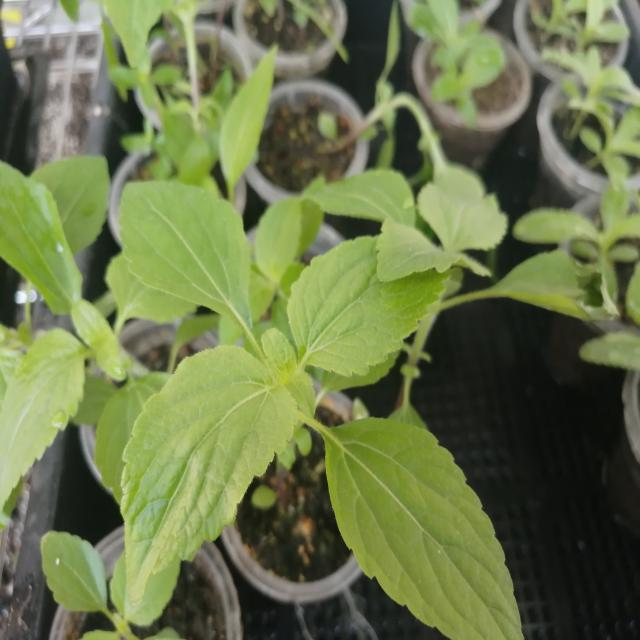billygoat_weed: (101, 172, 519, 630)
